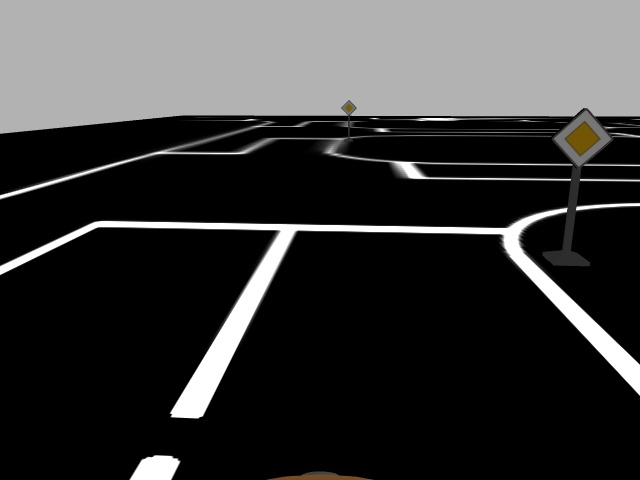priority: (549, 107, 612, 168), (340, 99, 357, 117)
